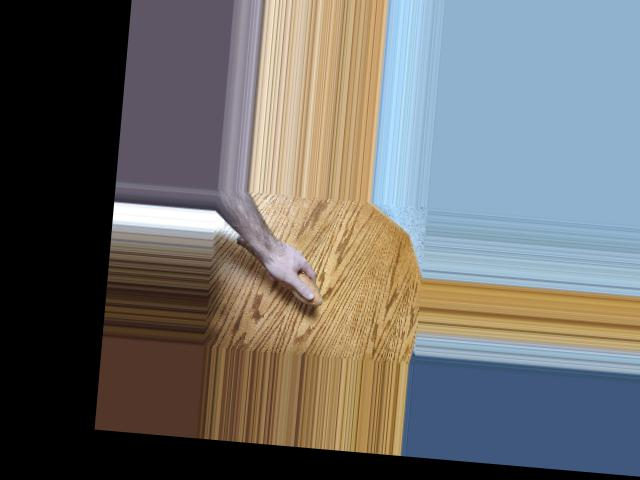sweet_potato: (229, 234, 327, 307)
